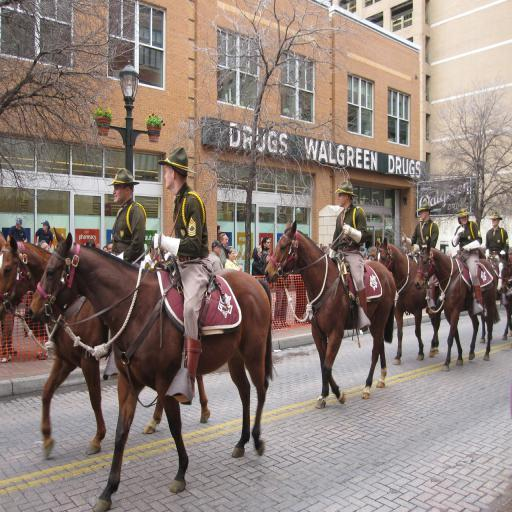horse: (28, 225, 278, 512), (0, 234, 212, 460), (263, 218, 398, 408), (413, 238, 500, 372), (374, 237, 443, 365), (480, 254, 512, 343), (496, 252, 512, 300)
